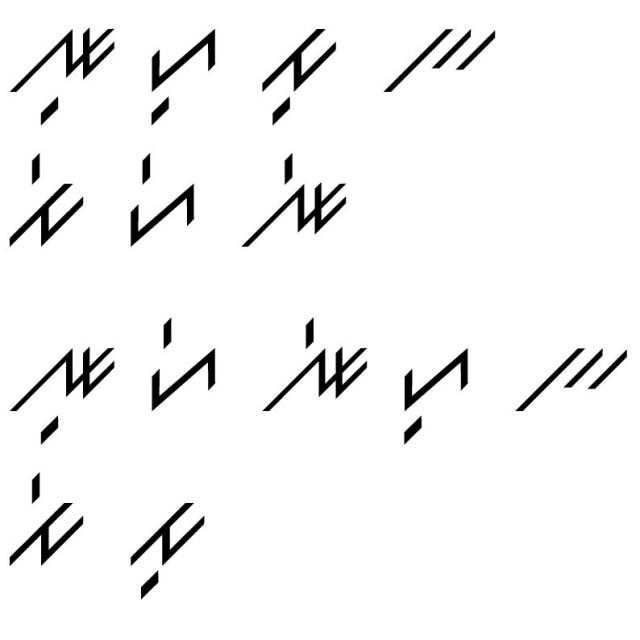he: (136, 310, 222, 415), (116, 155, 202, 251)
hu: (392, 336, 476, 446), (134, 26, 222, 129)
mbe: (2, 153, 94, 252), (2, 472, 88, 572)
mbu: (115, 491, 220, 602), (259, 16, 345, 127)
nde: (252, 305, 373, 425), (235, 150, 362, 255)
ndu: (7, 331, 122, 452), (9, 16, 118, 132)
